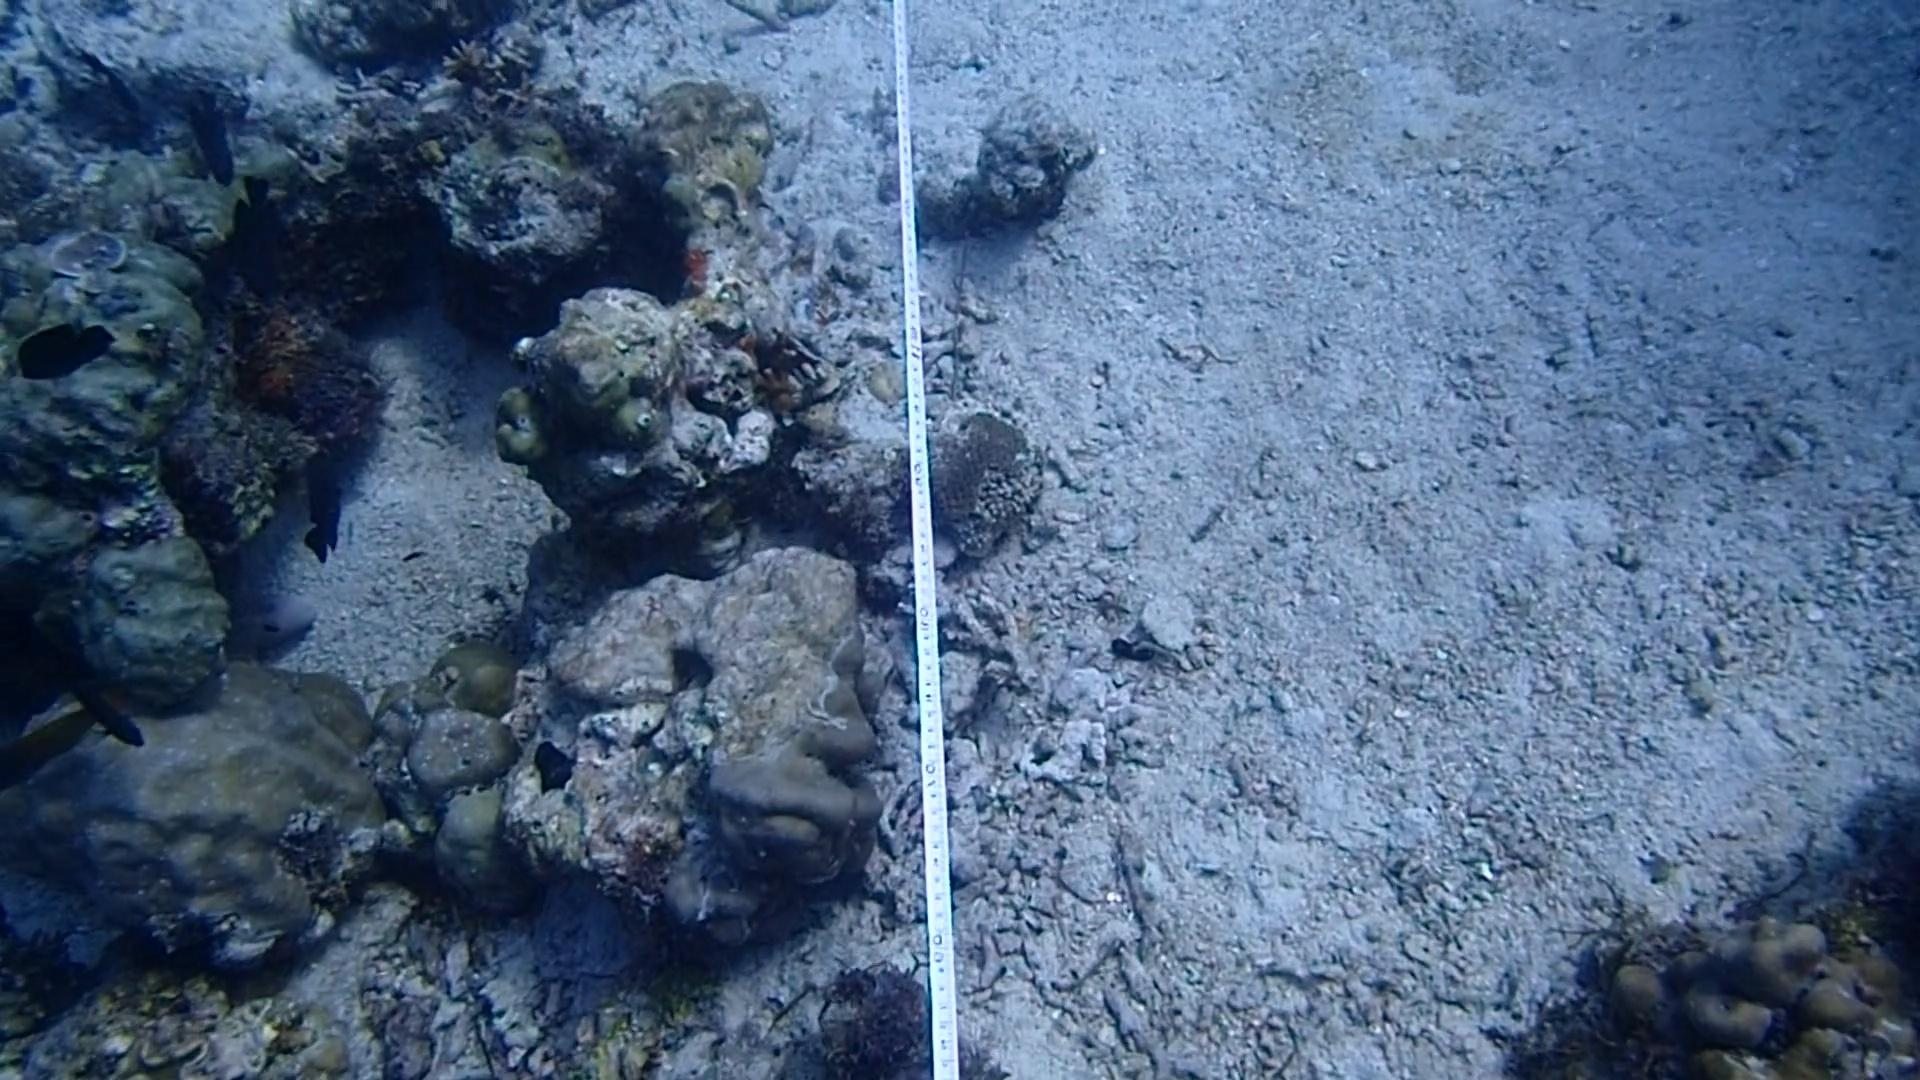Dark Fish: (5, 307, 129, 392), (216, 174, 297, 301), (55, 655, 157, 756), (281, 444, 364, 558), (174, 83, 248, 189), (87, 41, 152, 125)
Half Blue - Half Yellow: (0, 678, 127, 804)
